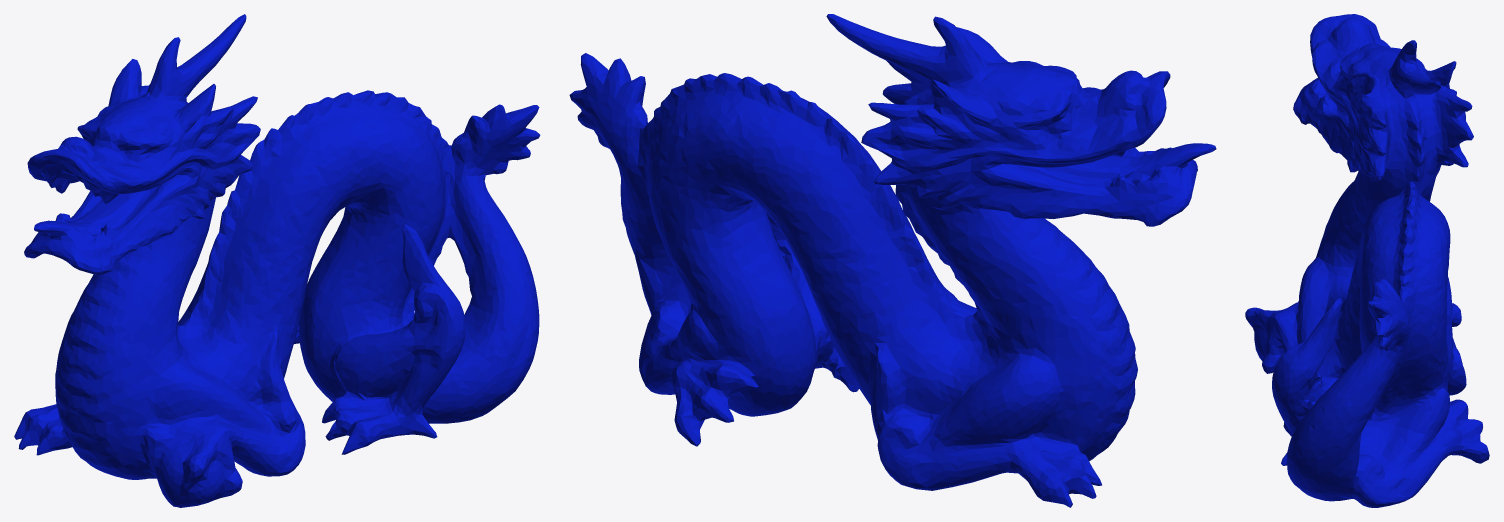
File: bunnyA.obj
3 views of the same model, side by side, from view 1: azimuth 30°, elevation 25°; view 2: azimuth 150°, elevation 25°; view 3: azimuth 270°, elevation 25° (orthographic). The views are drawn at different scales.
Visible parts, largest first — view 1: dragon.001; view 2: dragon.001; view 3: dragon.001.
Part boxes in pixels (x1,y1,x2,y2): dragon.001: (14,14,540,507); dragon.001: (569,14,1216,507); dragon.001: (1245,14,1489,507).
Size of the model in its own units: 16.05 by 11.33 by 7.16.
